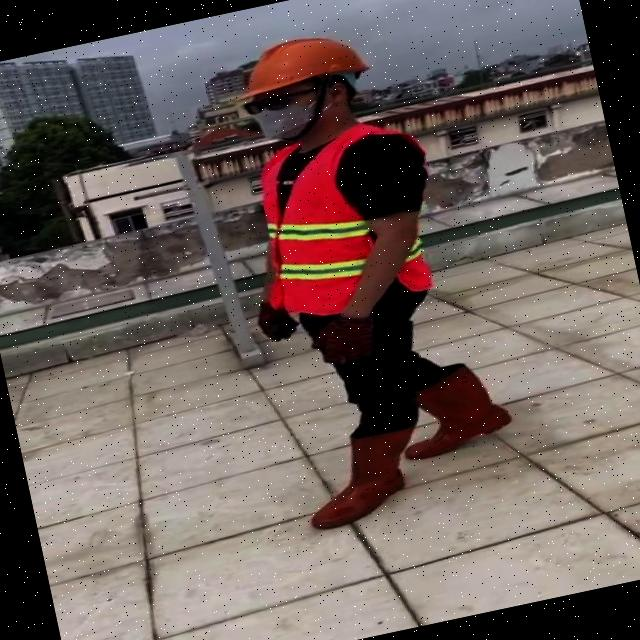boots: (293, 422, 427, 532), (397, 352, 518, 461)
